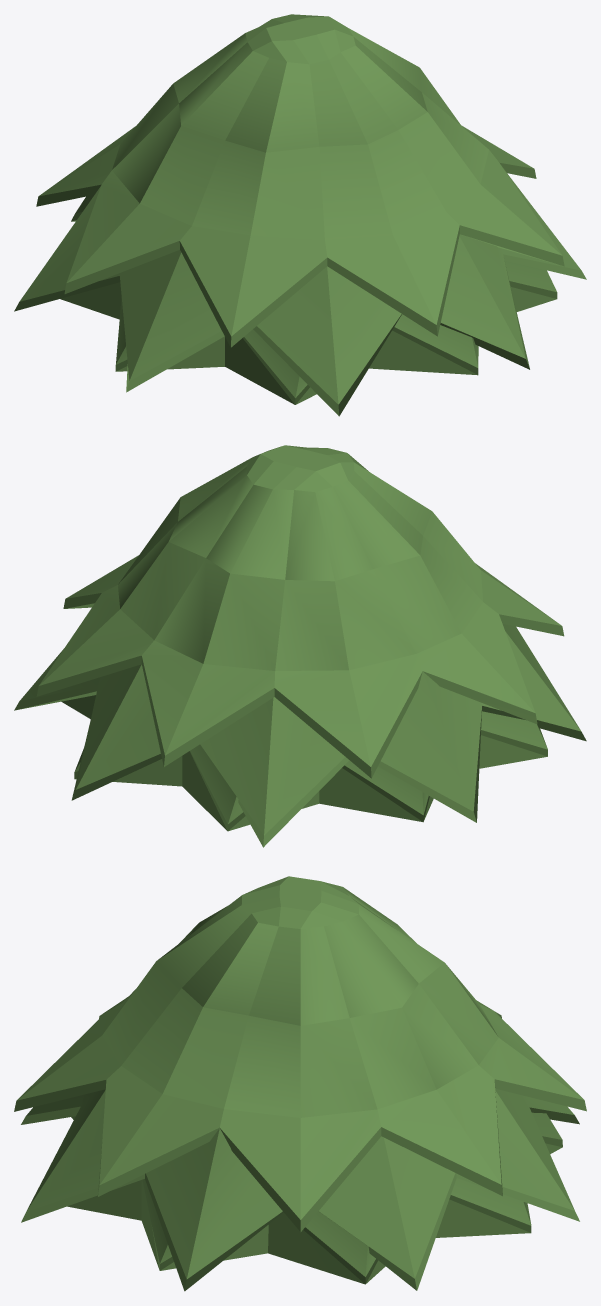
Rendered from 3. Bush.fbx.
The picture shows the model from 3 angles, top to bottom: view 1: azimuth 30°, elevation 25°; view 2: azimuth 150°, elevation 25°; view 3: azimuth 270°, elevation 25°; orthographic projection. The views are drawn at different scales.
Visible parts, largest first — view 1: 3. Bush; view 2: 3. Bush; view 3: 3. Bush.
Boxes of the visible parts, x1=… form: 3. Bush: x1=14, y1=14, x2=586, y2=416; 3. Bush: x1=14, y1=445, x2=586, y2=847; 3. Bush: x1=14, y1=876, x2=586, y2=1291.
Size of the model in its own units: 389 by 210 by 389.
